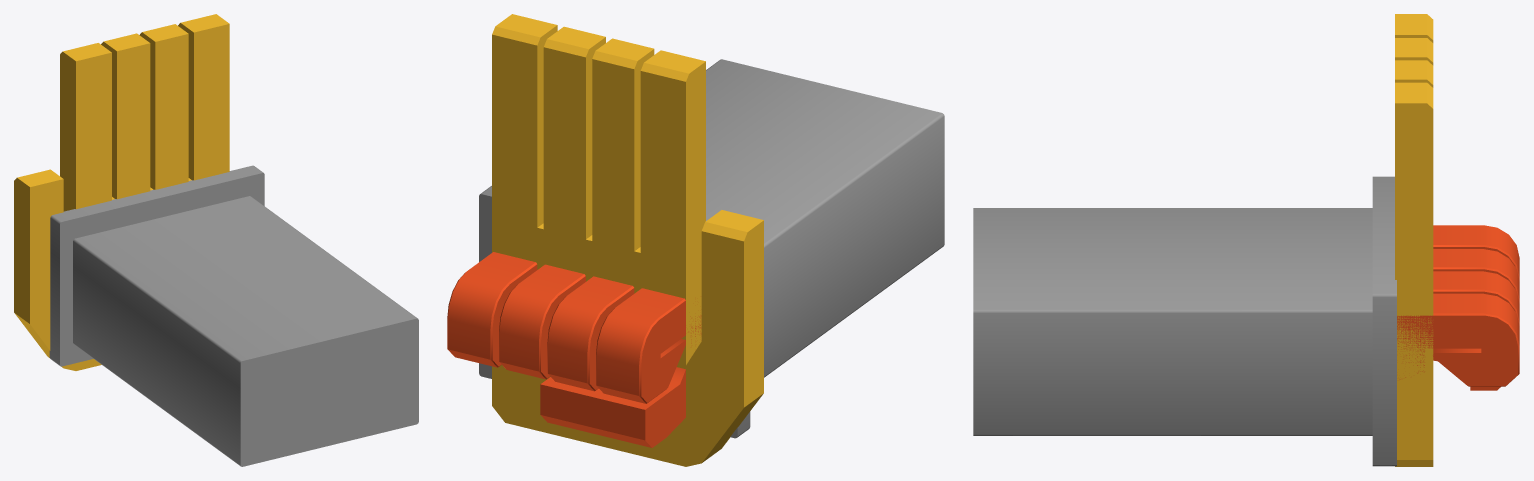
File: Hand.fbx
3 views of the same model, side by side, from view 1: azimuth 30°, elevation 25°; view 2: azimuth 150°, elevation 25°; view 3: azimuth 270°, elevation 25° (orthographic). The views are drawn at different scales.
Parts seen in each view (by area): view 1: Base.002, Hand; view 2: Hand, Base.002, Fist; view 3: Base.002, Hand, Fist.
Part boxes in pixels (x1,y1,x2,y2): Base.002: (49, 165, 418, 466); Hand: (14, 14, 229, 370); Hand: (492, 14, 763, 466); Base.002: (479, 59, 944, 438); Fist: (447, 252, 701, 447); Base.002: (973, 176, 1396, 466); Hand: (1395, 14, 1433, 466); Fist: (1397, 225, 1519, 390).
Size of the model in its own units: 1.47 by 2.58 by 1.93.
